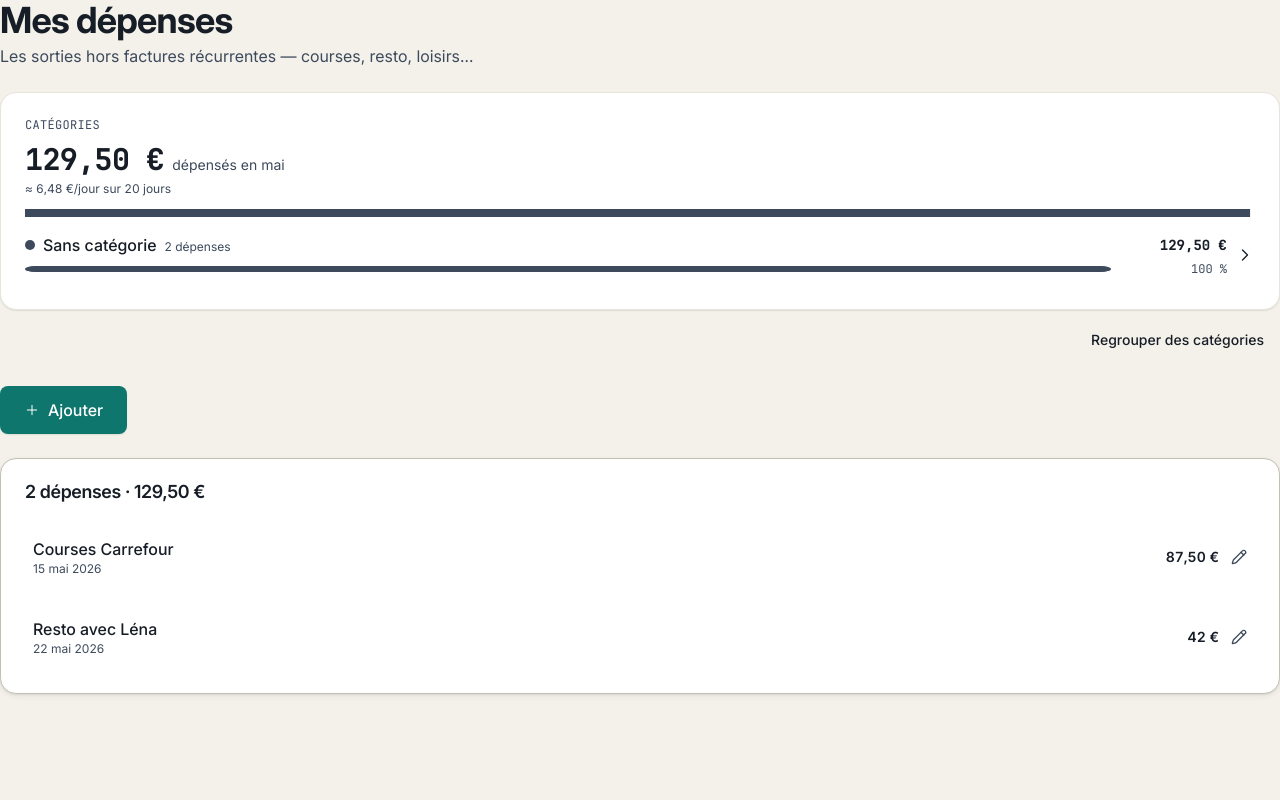
Test: <ExpensesClient /> — PR-BETA-CLEANUP-3 edit drawer › opens the drawer with pre-filled fields when Modifier is clicked
Click the button with test id "expenses-row-edit-e1". click: x=103, y=549
box: [25,525,1255,589]
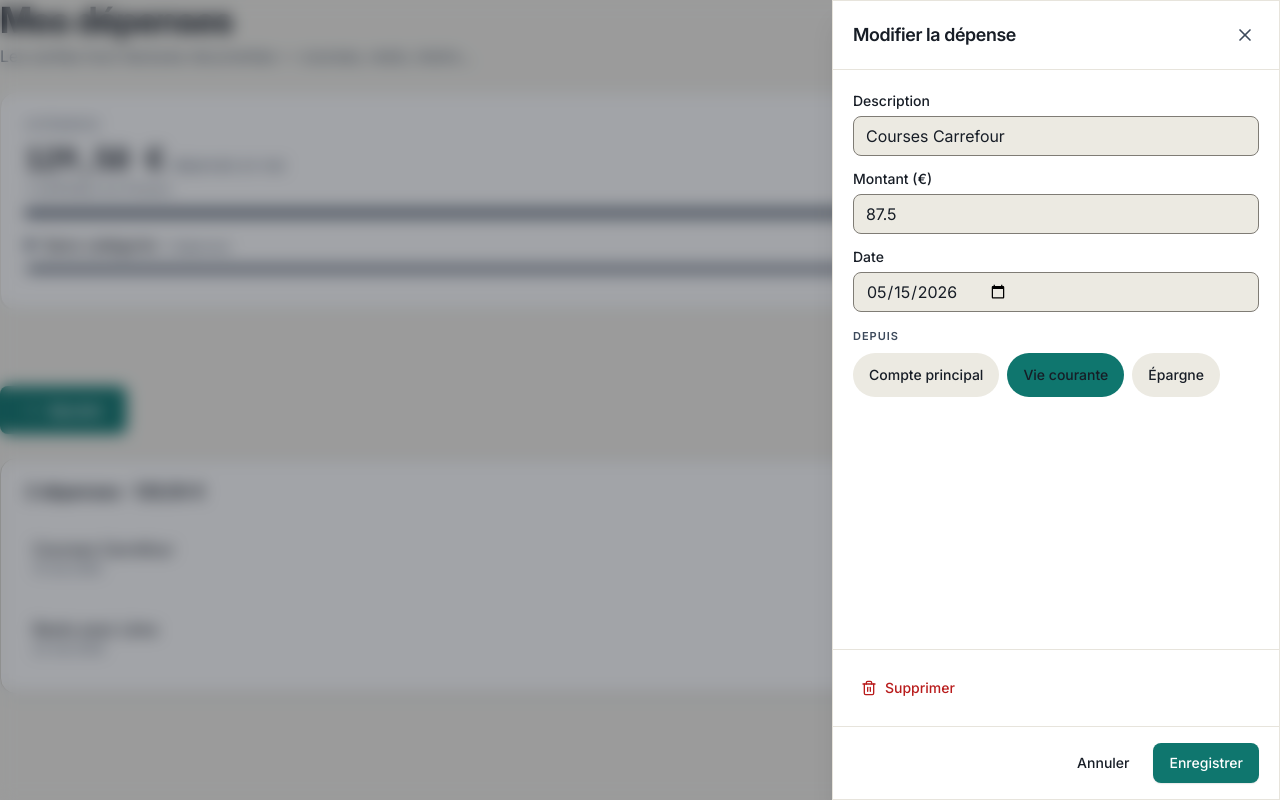
expect the dialog with test id "expense-edit-drawer" is shown: met
expect the field with test id "expense-edit-label" holds "Courses Carrefour": met, box [853,116,1259,156]
expect the field with test id "expense-edit-amount" holds "87.5": met, box [853,194,1259,234]
